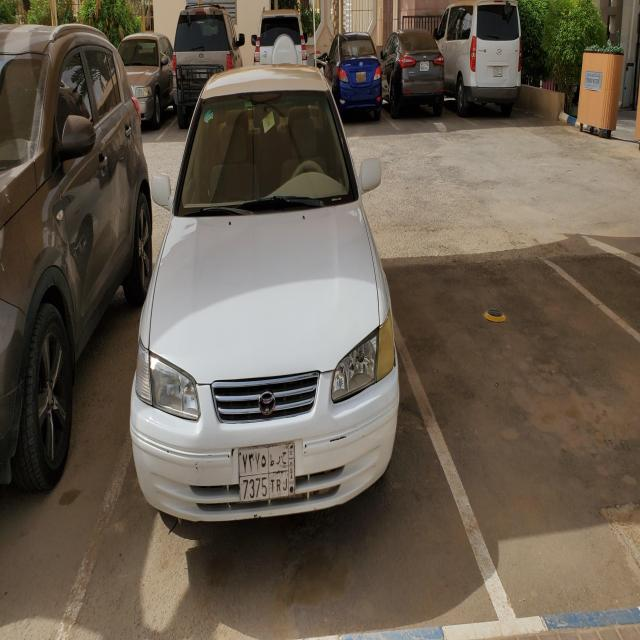license_plate: (237, 443, 295, 504), (356, 70, 366, 84), (196, 68, 207, 80), (420, 60, 429, 72), (493, 67, 503, 77)
